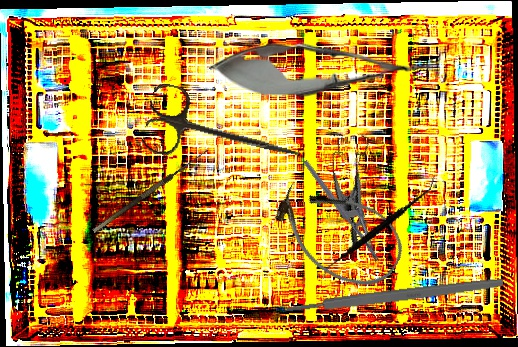Cannula: (262, 166, 415, 302)
Hook Surgical: (87, 142, 210, 234)
Iris Scissors: (140, 81, 308, 185)
Micro Scissor: (209, 37, 439, 100)
Needle Holder: (302, 149, 394, 264)
Scalpel Handle: (286, 275, 504, 316)
Spatula Surgical: (321, 152, 435, 303)
Speculum: (312, 123, 404, 248)
